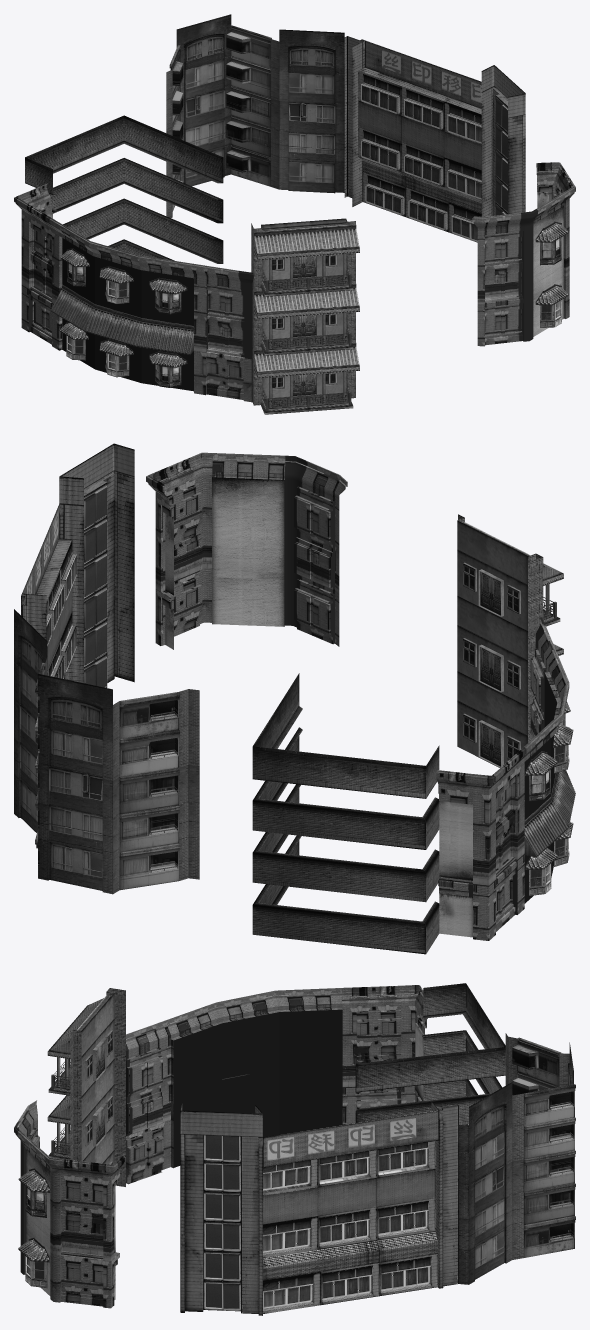
Rendered from chinatown_block_5.fbx.
The picture shows the model from 3 angles, top to bottom: view 1: azimuth 30°, elevation 25°; view 2: azimuth 150°, elevation 25°; view 3: azimuth 270°, elevation 25°; orthographic projection. The views are drawn at different scales.
Parts seen in each view (by area): view 1: chinatown_building_5, chinatown_building_1, chinatown_building_6, chinatown_building_7, chinatown_building_4, chinatown_building_3, chinatown_building_2; view 2: chinatown_building_6, chinatown_building_3, chinatown_building_4, chinatown_building_5, chinatown_building_7, chinatown_building_1, chinatown_building_2; view 3: chinatown_building_1, chinatown_building_5, chinatown_building_6, chinatown_building_3, chinatown_building_7, chinatown_building_4.
Boxes of the visible parts, x1,y1,x2,y2 form: chinatown_building_5: (14, 183, 253, 402); chinatown_building_1: (344, 36, 525, 242); chinatown_building_6: (166, 14, 344, 217); chinatown_building_7: (251, 218, 359, 414); chinatown_building_4: (25, 115, 223, 263); chinatown_building_3: (472, 162, 575, 346); chinatown_building_2: (481, 65, 494, 216); chinatown_building_6: (14, 609, 199, 894); chinatown_building_3: (146, 452, 347, 649); chinatown_building_4: (252, 673, 439, 954); chinatown_building_5: (436, 617, 575, 940); chinatown_building_7: (457, 514, 563, 767); chinatown_building_1: (21, 443, 134, 687); chinatown_building_2: (59, 476, 83, 683); chinatown_building_1: (180, 1102, 458, 1315); chinatown_building_5: (115, 985, 427, 1184); chinatown_building_6: (459, 1033, 575, 1284); chinatown_building_3: (14, 1100, 125, 1308); chinatown_building_7: (47, 988, 125, 1186); chinatown_building_4: (355, 983, 505, 1125).
Bounding box in the file's own units: 3804 × 1907 × 4065.
